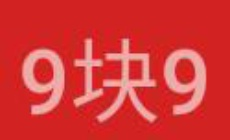TextView: (1, 1, 229, 139)
